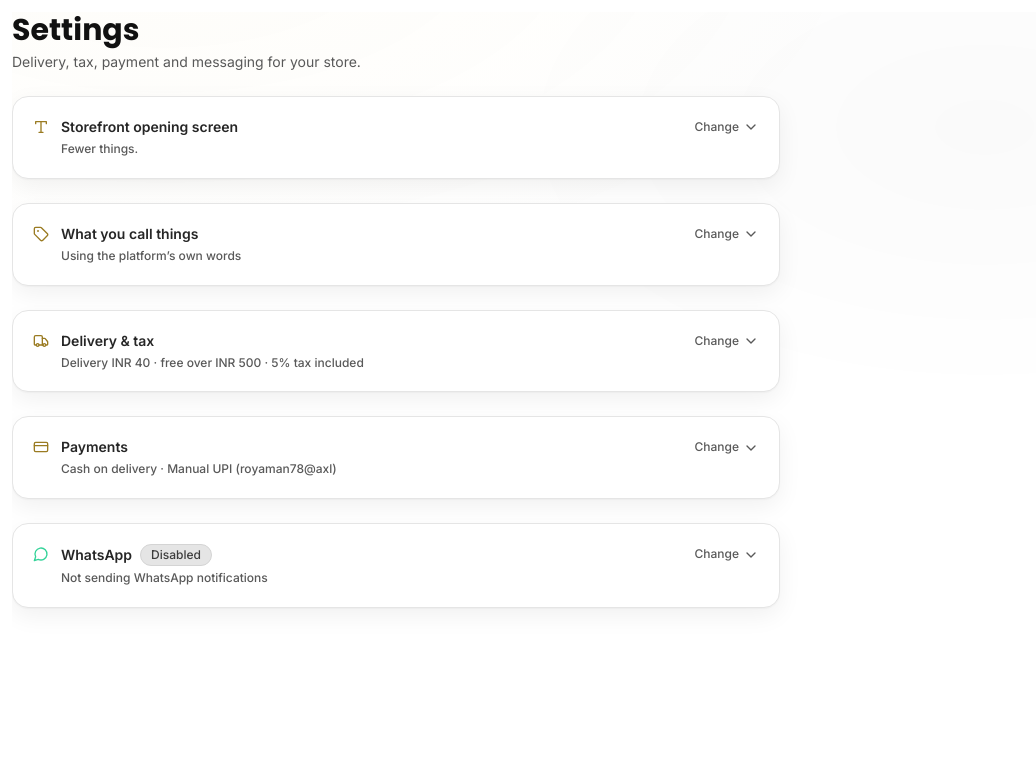
Scenario: AdminSettings — folded sections › keeps the edits, so reopening resumes rather than restarts
Expected: the text "Delivery & tax" is shown, [61,331,154,351]
Click the button "Delivery & tax": (108, 340) [33,331,759,371]
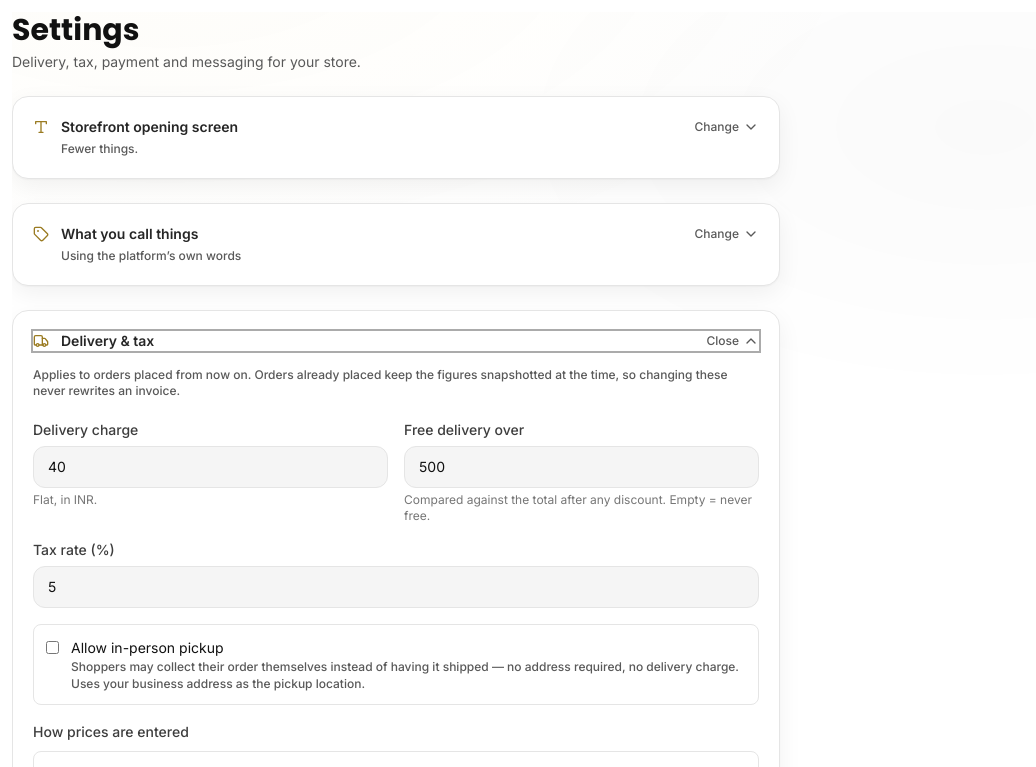
Replace the text in the number field named "Tax rate" with "12": (396, 587) [33,566,759,608]
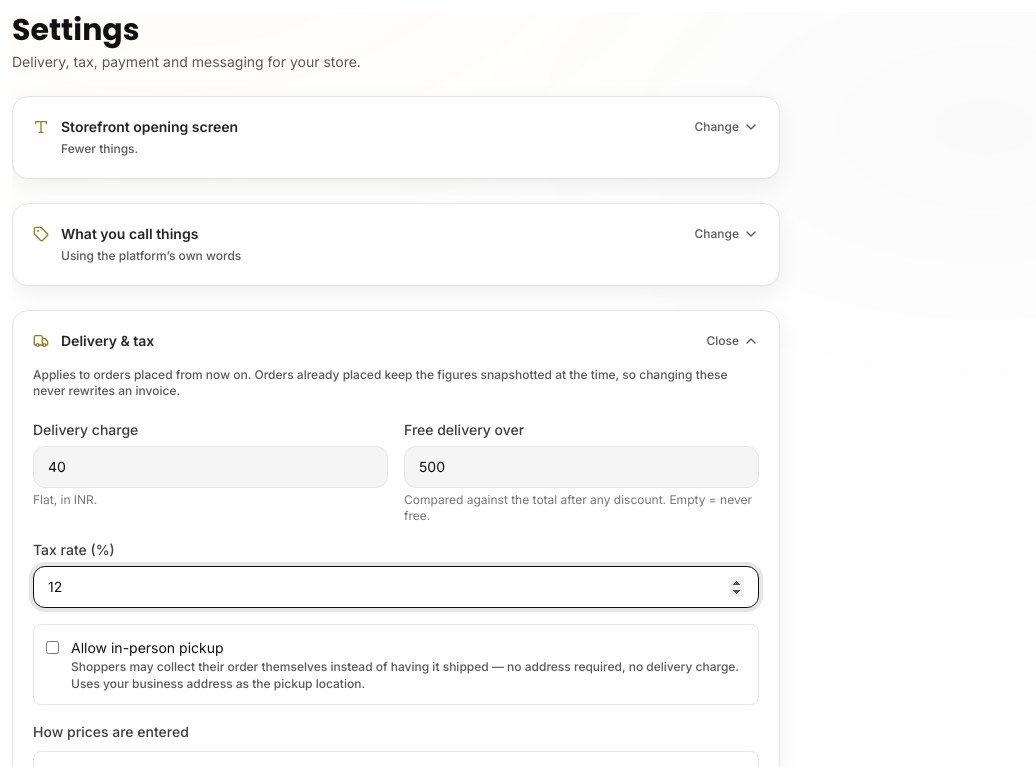
Click the button "What you call things Using the platform’s own words Change": (130, 233) [33,224,759,265]
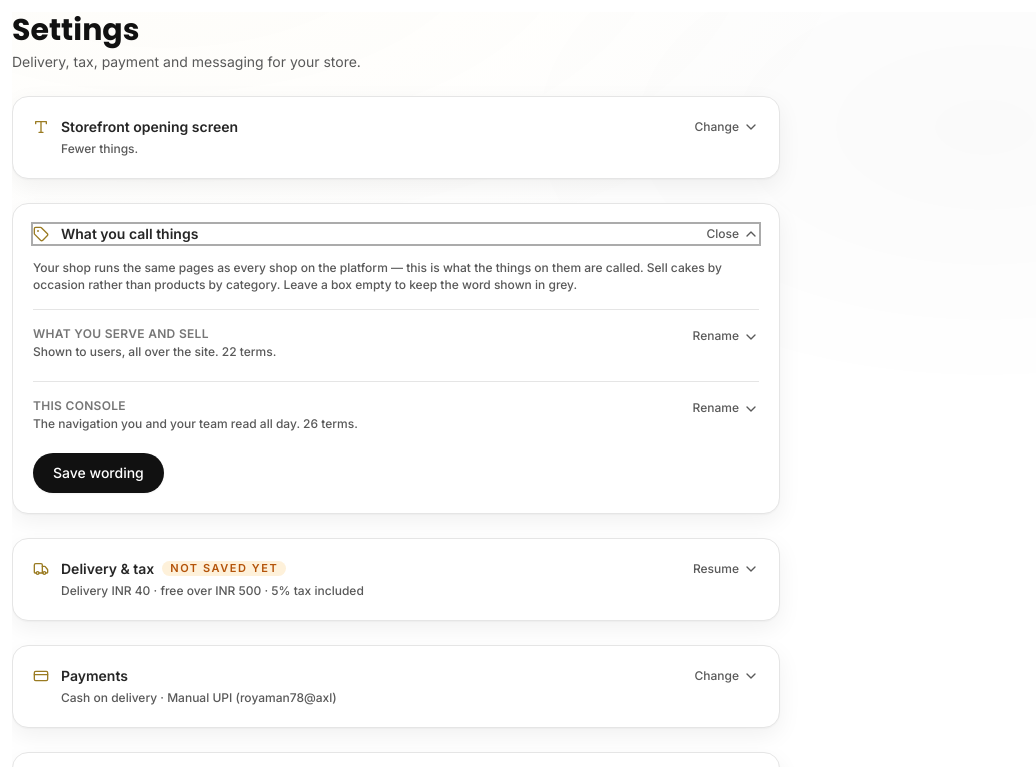
Click the button "Delivery & tax": (108, 568) [33,559,759,600]
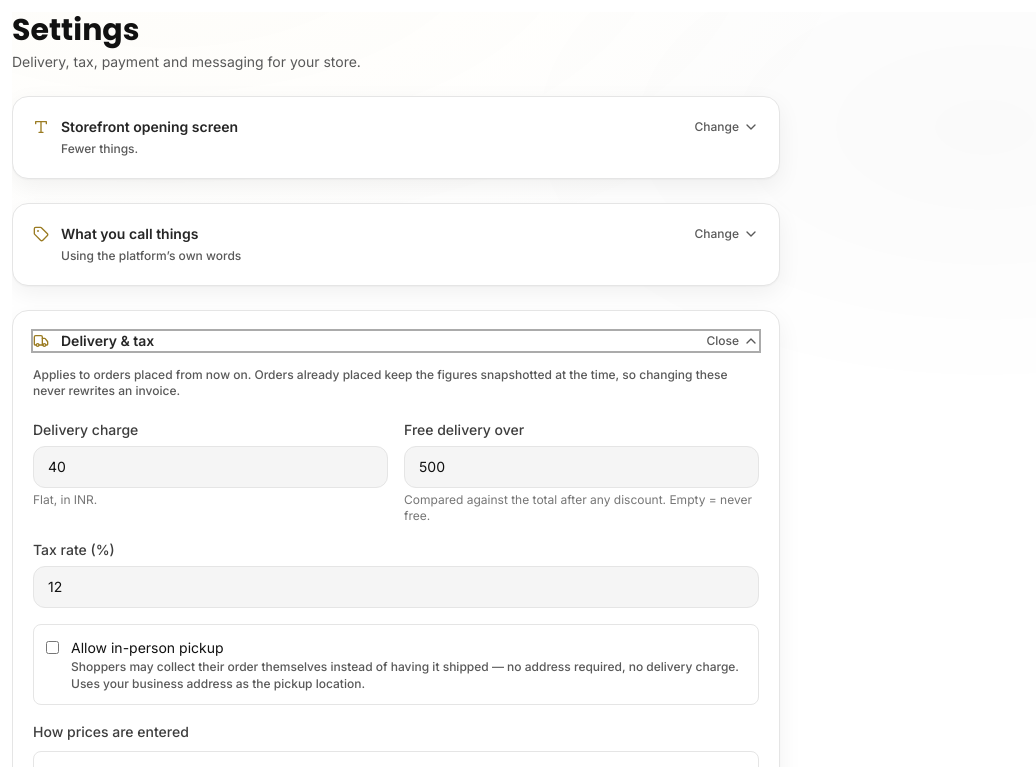
Expected: the number field named "Tax rate" holds "12", [33,566,759,608]
